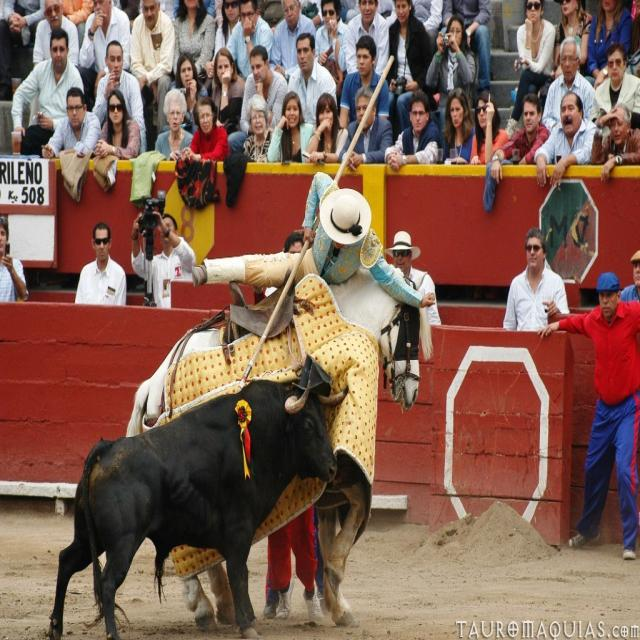Bull: (44, 374, 347, 637)
